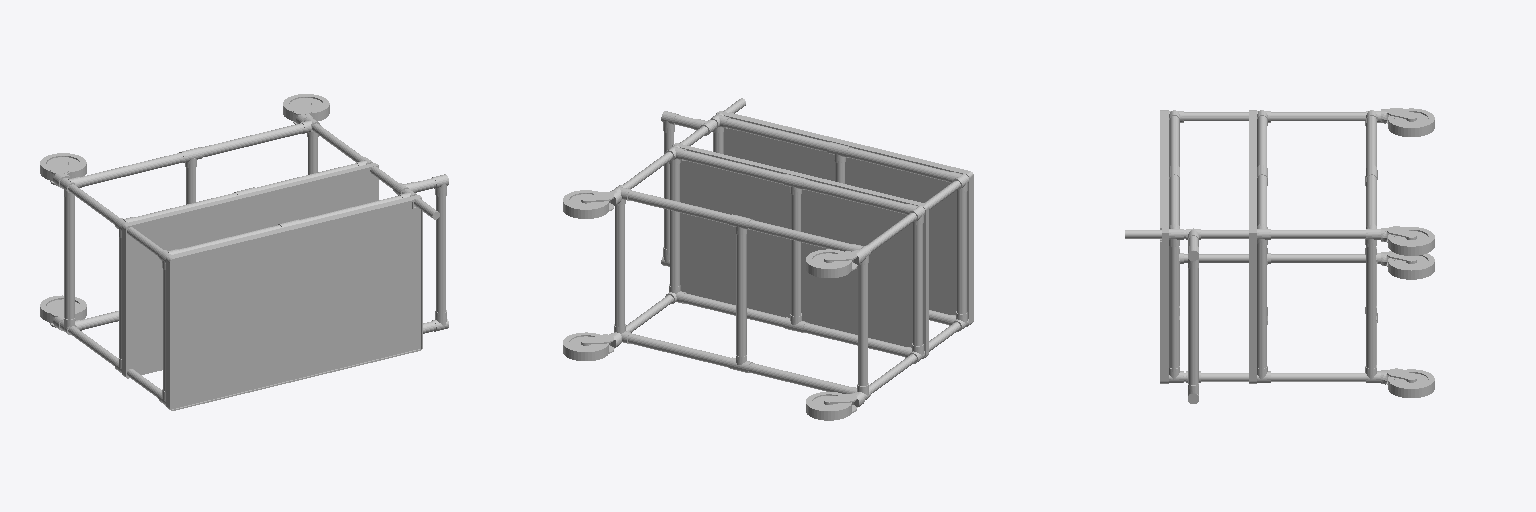
File: DCO_Cart_no_mtl.obj
3 renders of one model, left to right at view 1: azimuth 30°, elevation 25°; view 2: azimuth 150°, elevation 25°; view 3: azimuth 270°, elevation 25°, orthographic.
Parts seen in each view (by area): view 1: Body1, Body9, Body8, Body3, Body13, Body14, Body12; view 2: Body1, Body9, Body3, Body8, Body14, Body12, Body13, Body15; view 3: Body1, Body9, Body8, Body3, Body15, Body14, Body13, Body12.
Boxes of the visible parts, <box> form: Body1: <box>68,123,448,410</box>; Body9: <box>60,117,320,334</box>; Body8: <box>158,189,416,405</box>; Body3: <box>115,157,372,372</box>; Body13: <box>40,153,86,188</box>; Body14: <box>283,94,329,124</box>; Body12: <box>40,295,86,330</box>; Body1: <box>623,98,973,393</box>; Body9: <box>612,185,870,399</box>; Body3: <box>665,145,924,363</box>; Body8: <box>711,113,968,331</box>; Body14: <box>563,190,621,218</box>; Body12: <box>806,392,864,420</box>; Body13: <box>806,249,864,277</box>; Body15: <box>563,332,621,360</box>; Body1: <box>1125,110,1365,403</box>; Body9: <box>1365,110,1380,382</box>; Body8: <box>1169,110,1183,382</box>; Body3: <box>1257,110,1270,382</box>; Body15: <box>1381,368,1434,397</box>; Body14: <box>1381,226,1434,255</box>; Body13: <box>1381,108,1434,136</box>; Body12: <box>1381,251,1434,279</box>.
Size of the model in its own units: 233 by 116 by 212.